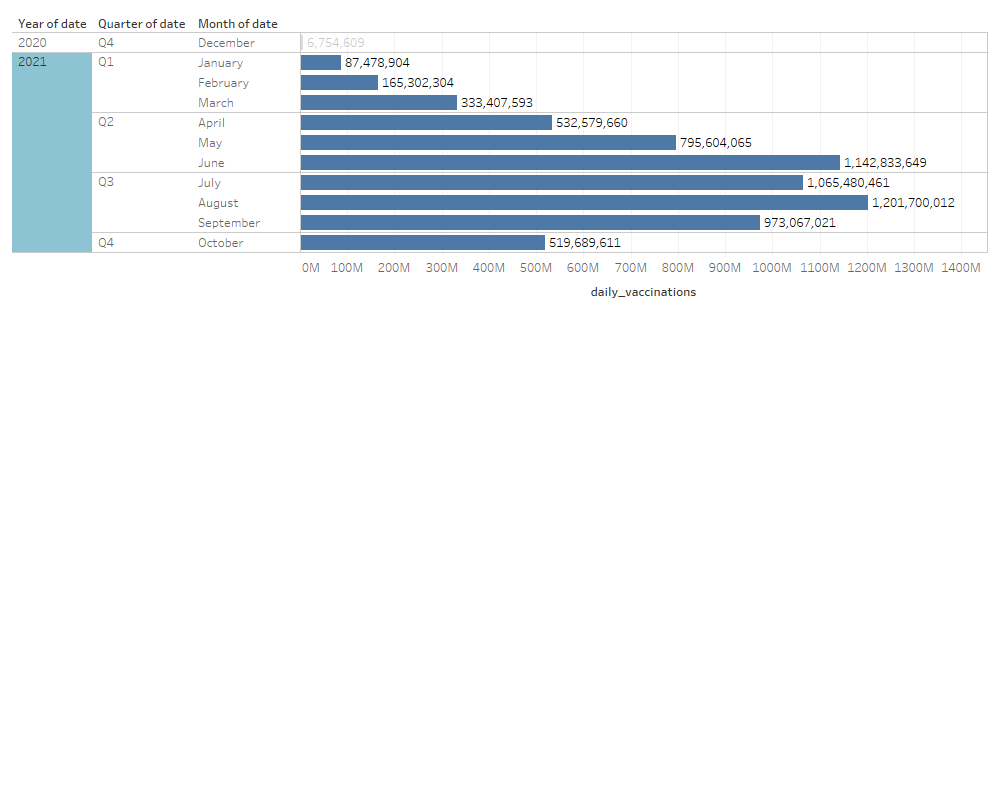

The page's visual inventory and layout, read from the dashboard file:
{"tool":"tableau","page":{"name":"Dashboard 1","canvas":[1000,800],"ordinal":0},"visuals":[{"type":"worksheet","title":"Sheet 7","mark":"Automatic","rows":["country"],"cols":["people_fully_vaccinated"],"box":[8,8,984,784]}]}

Visuals, with their boxes in screenshot pixels (x1, y1, x2, y2), scaled from the page's 1000x800 canvas onto the 1000x800 screenshot:
"Sheet 7" worksheet: 8:8:992:792
